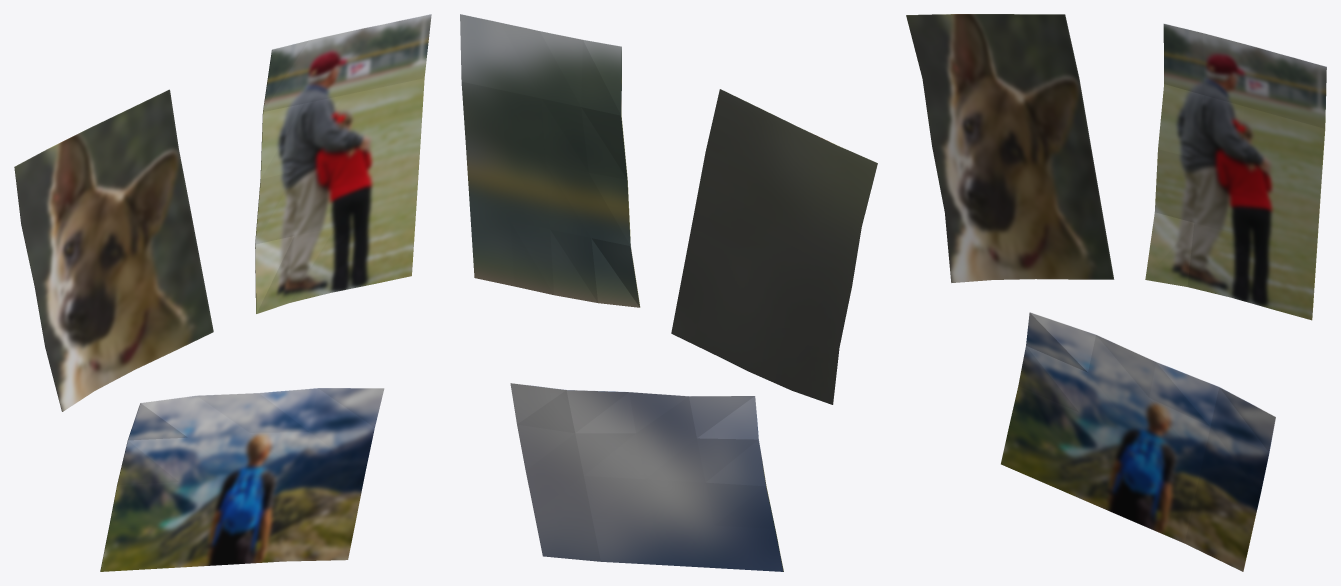
File: Photos 2.FBX
The picture shows the model from 3 angles, left to right: view 1: azimuth 30°, elevation 25°; view 2: azimuth 150°, elevation 25°; view 3: azimuth 330°, elevation 25°; orthographic projection.
Visible parts, largest first — view 1: photos 2; view 2: photos 2; view 3: photos 2.
Boxes of the visible parts, <box> form: photos 2: <box>14,14,431,571</box>; photos 2: <box>460,14,877,571</box>; photos 2: <box>906,14,1326,571</box>.
Bounding box in the file's own units: 21.79 × 26.39 × 0.5746.
Materials: 1 (1 with a texture image).
